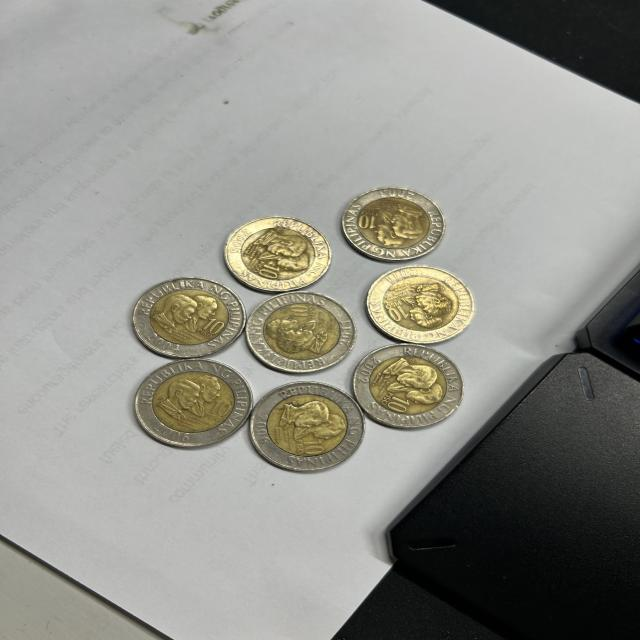10_Old_Front: (297, 438, 327, 456), (257, 262, 283, 279), (284, 303, 310, 320), (385, 395, 411, 412), (210, 398, 232, 418), (386, 304, 410, 322), (204, 317, 226, 336), (354, 214, 378, 228)
